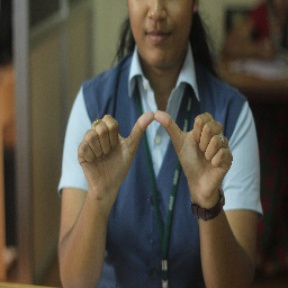A: (84, 99, 216, 187)
